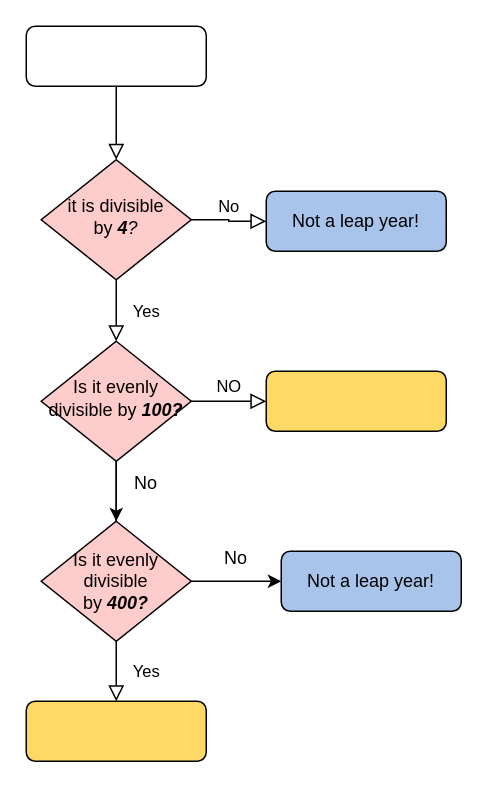
This 488x788 diagram has some shape labels left out. Here are the shapes that lost their labels. From the top down, the box of each, then its label:
(25, 25, 206, 86): Is the year a leap year?
(265, 370, 446, 431): Leap year!
(25, 700, 206, 761): It's a leap year!
